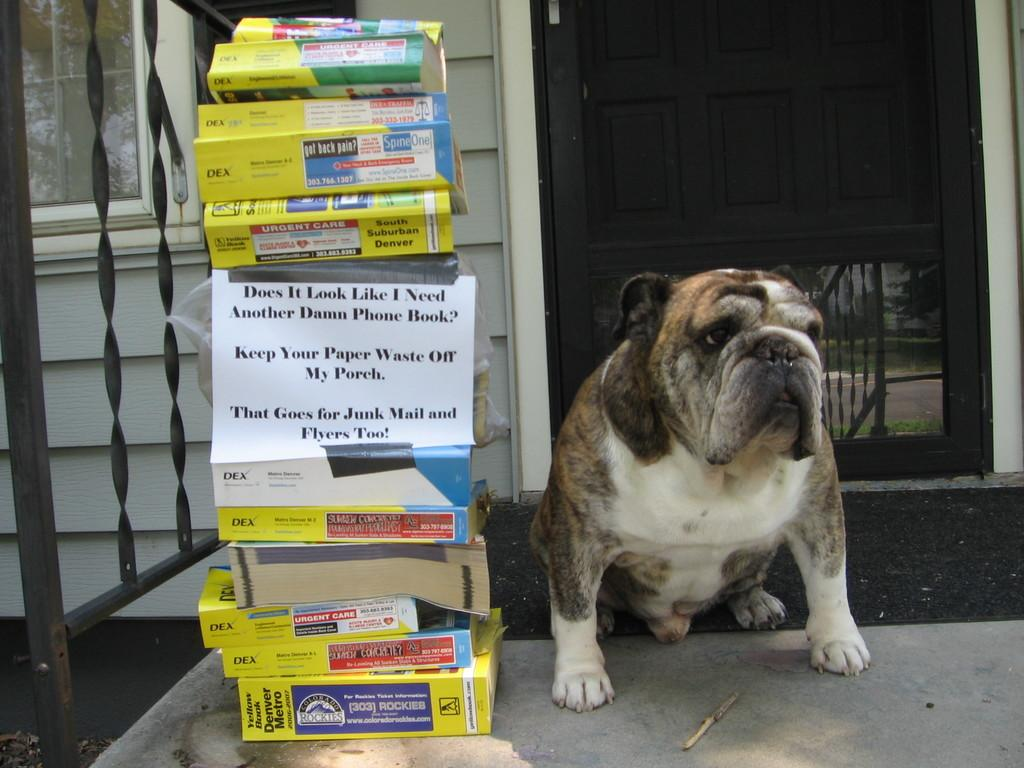book: (193, 13, 506, 748)
